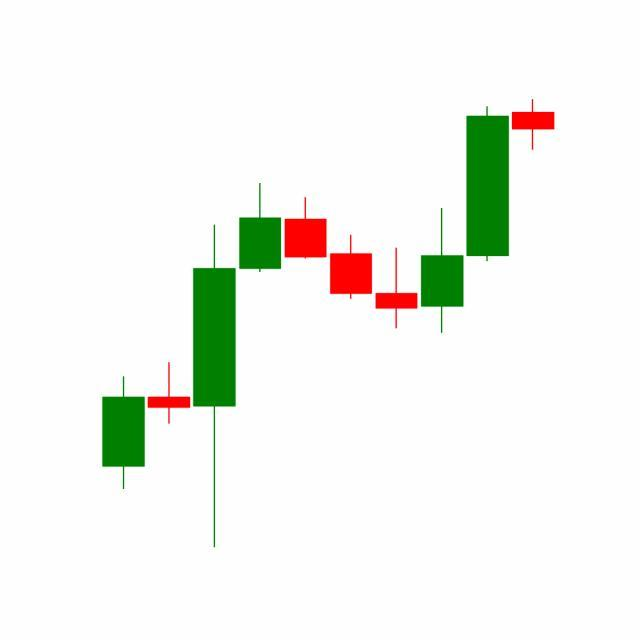Hikkake Pattern: (283, 103, 512, 336)
